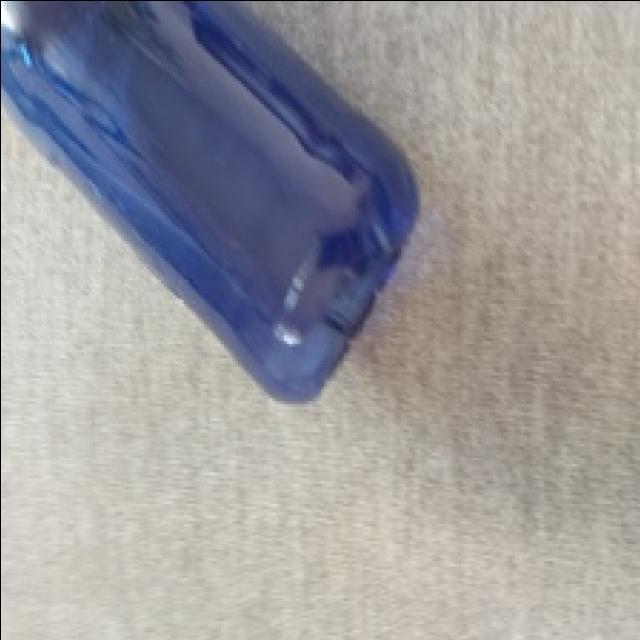good: (0, 0, 442, 405)
